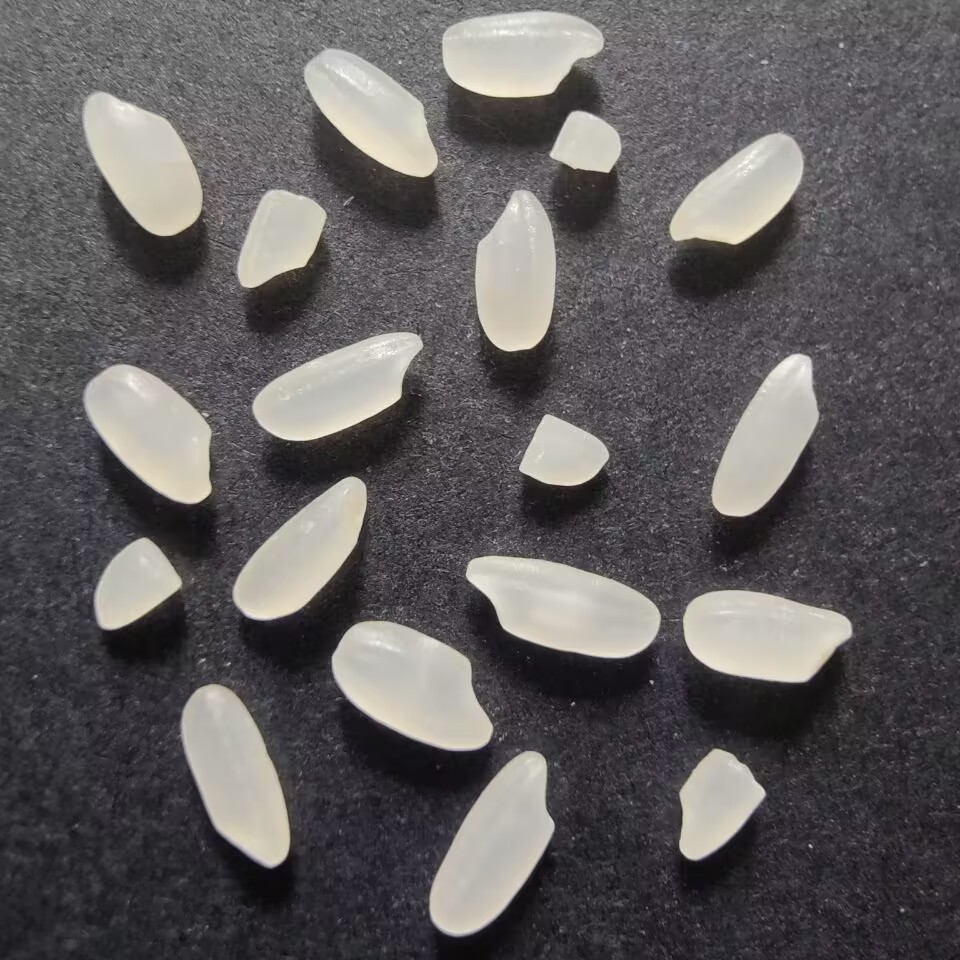broken: (669, 742, 771, 863), (85, 533, 188, 640), (234, 186, 330, 296), (514, 407, 611, 490), (545, 105, 626, 177)
rice: (421, 743, 558, 942), (324, 617, 500, 752), (171, 680, 294, 872), (459, 550, 666, 663), (225, 468, 369, 625), (76, 80, 209, 241), (704, 347, 825, 522), (80, 360, 217, 512), (249, 327, 425, 445), (299, 45, 442, 183), (679, 585, 853, 691), (660, 129, 809, 245), (470, 183, 564, 357), (432, 10, 609, 101)
